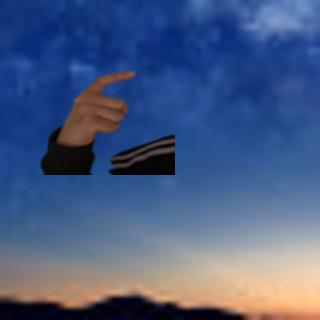WHY: (56, 65, 138, 144)
